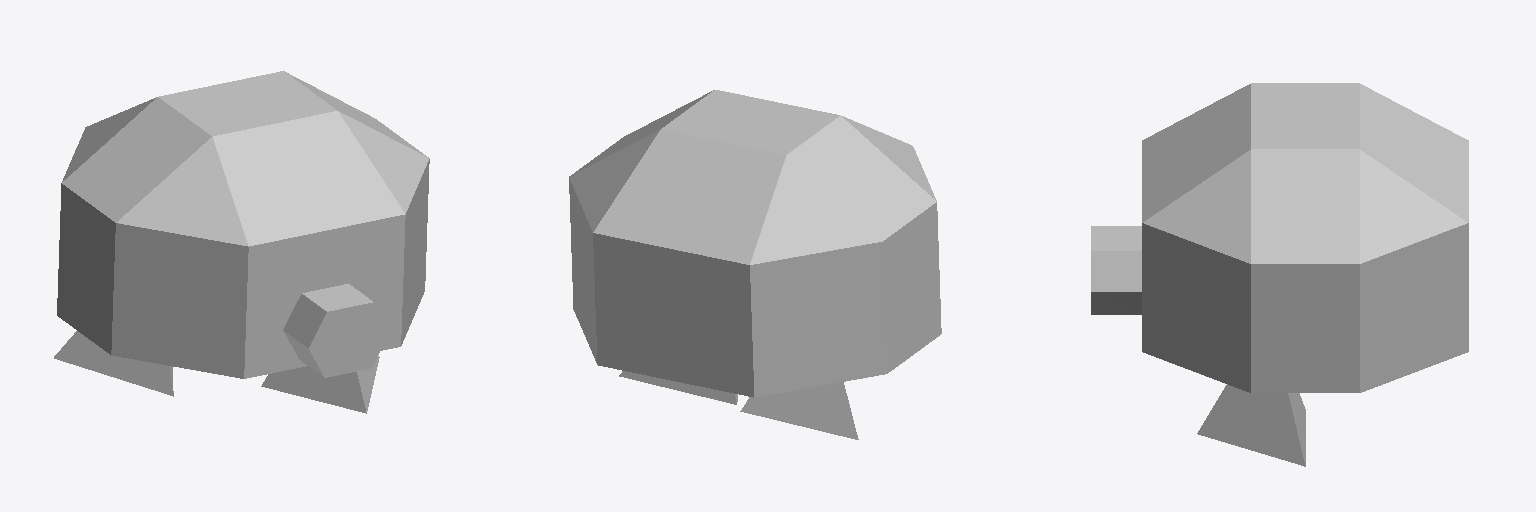
The model's file is snooper_000014.obj.
The picture shows the model from 3 angles: view 1: azimuth 30°, elevation 25°; view 2: azimuth 150°, elevation 25°; view 3: azimuth 270°, elevation 25°; orthographic projection.
Parts seen in each view (by area): view 1: Cube, Cube.001, Cube.003; view 2: Cube, Cube.003, Cube.001; view 3: Cube, Cube.001.
Part boxes in pixels (left/top/right/bottom): Cube: left=57, top=71, right=429, bottom=378; Cube.001: left=261, top=356, right=379, bottom=413; Cube.003: left=54, top=331, right=173, bottom=396; Cube: left=569, top=90, right=941, bottom=397; Cube.003: left=740, top=382, right=858, bottom=439; Cube.001: left=619, top=371, right=737, bottom=404; Cube: left=1091, top=83, right=1468, bottom=392; Cube.001: left=1197, top=384, right=1305, bottom=466.
Size of the model in its own units: 2.03 by 1.76 by 2.08.